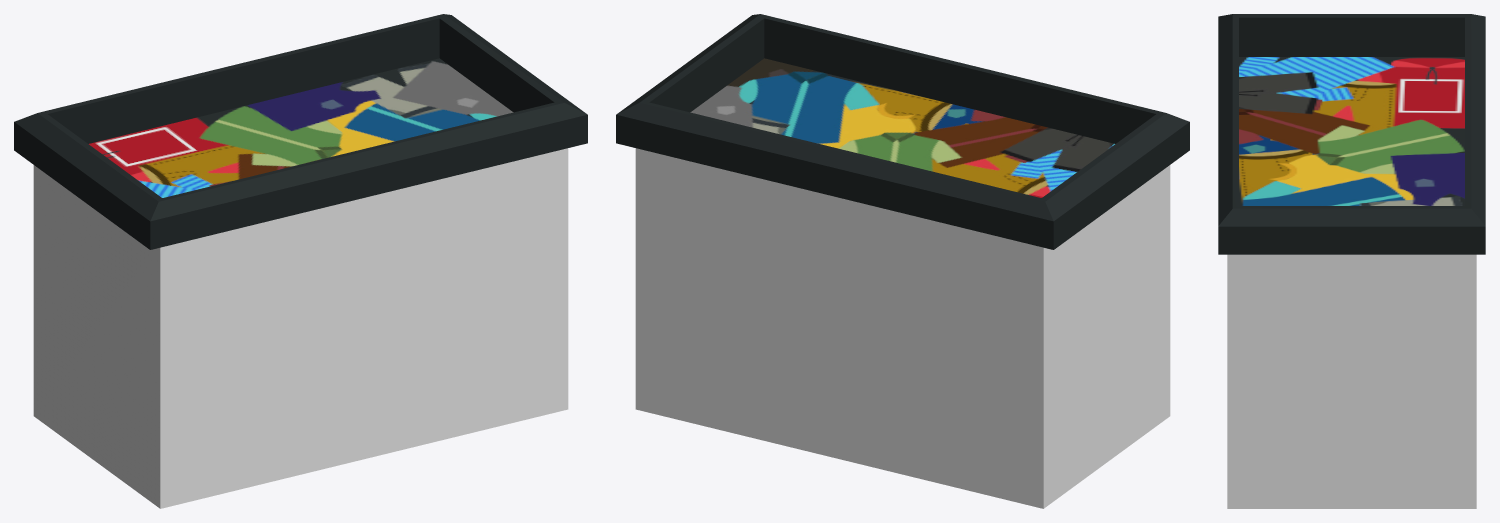
The model's file is geo_HamperFull_01.fbx.
3 views of the same model, side by side, from view 1: azimuth 30°, elevation 25°; view 2: azimuth 150°, elevation 25°; view 3: azimuth 270°, elevation 25° (orthographic).
Parts seen in each view (by area): view 1: geo_HamperFull; view 2: geo_HamperFull; view 3: geo_HamperFull.
Boxes of the visible parts, <box> form: geo_HamperFull: <box>14,14,587,508</box>; geo_HamperFull: <box>616,14,1189,508</box>; geo_HamperFull: <box>1218,14,1485,508</box>.
Bounding box in the file's own units: 72.46 × 48.25 × 39.04.
Materials: 1 (1 with a texture image).
